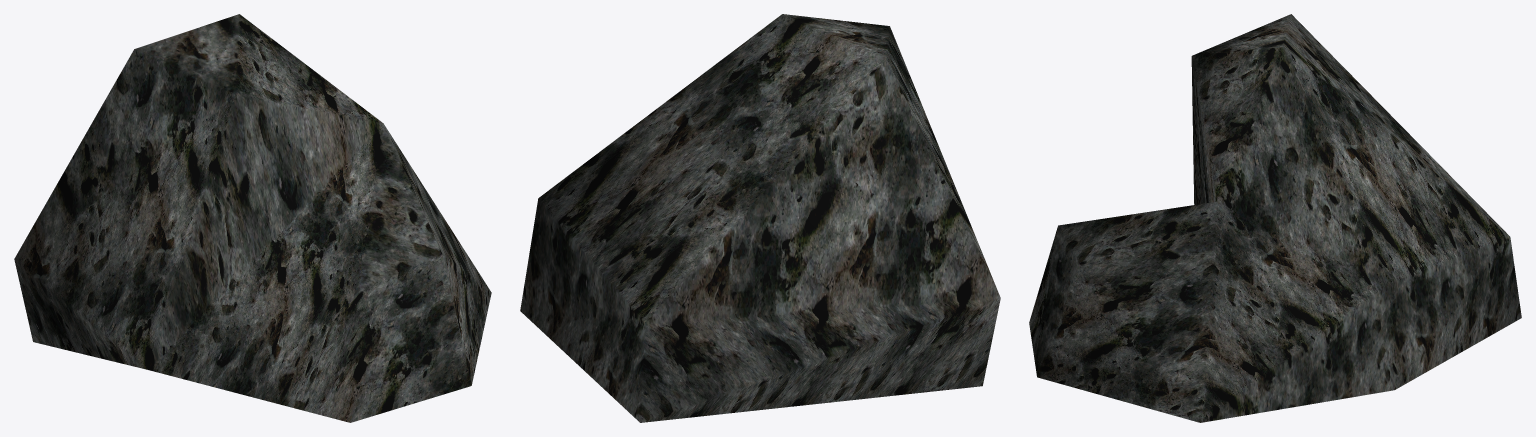
The model's file is rock_scorched_big_l3.fbx.
3 views of the same model, side by side, from view 1: azimuth 30°, elevation 25°; view 2: azimuth 150°, elevation 25°; view 3: azimuth 270°, elevation 25° (orthographic). The views are drawn at different scales.
Visible parts, largest first — view 1: mesh_node; view 2: mesh_node; view 3: mesh_node.
Part boxes in pixels (x1,y1,x2,y2): mesh_node: [14, 14, 491, 422]; mesh_node: [520, 14, 1000, 422]; mesh_node: [1029, 14, 1521, 422].
Bounding box in the file's own units: 7.25 × 5 × 7.79.
1 material, 1 textured.
